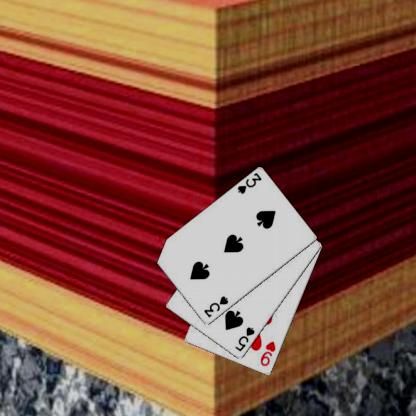3S: (234, 170, 263, 196), (201, 294, 229, 318)
5S: (232, 324, 256, 353)
9H: (258, 338, 276, 368)
